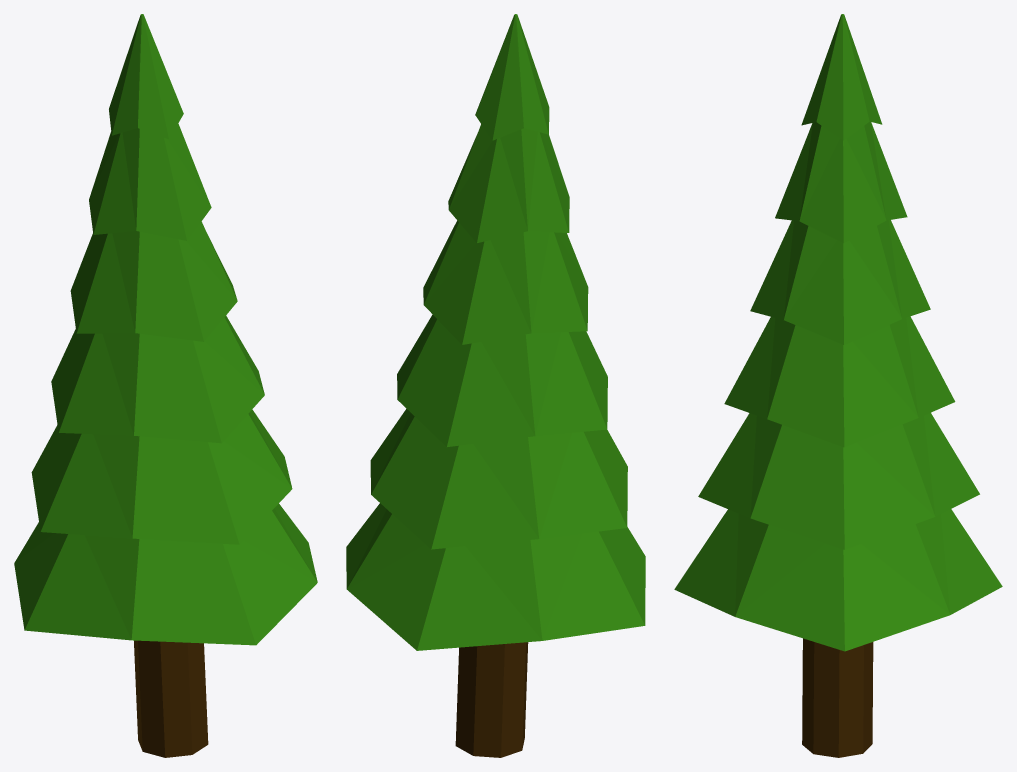
File: tree2.dae
The picture shows the model from 3 angles, left to right: view 1: azimuth 30°, elevation 25°; view 2: azimuth 150°, elevation 25°; view 3: azimuth 270°, elevation 25°; orthographic projection. The views are drawn at different scales.
Visible parts, largest first — view 1: SapinHiver_015; view 2: SapinHiver_015; view 3: SapinHiver_015.
Part boxes in pixels (<box>): SapinHiver_015: <box>14,14,317,757</box>; SapinHiver_015: <box>346,14,645,757</box>; SapinHiver_015: <box>674,14,1002,757</box>.
Size of the model in its own units: 2.08 by 2.08 by 5.01.
